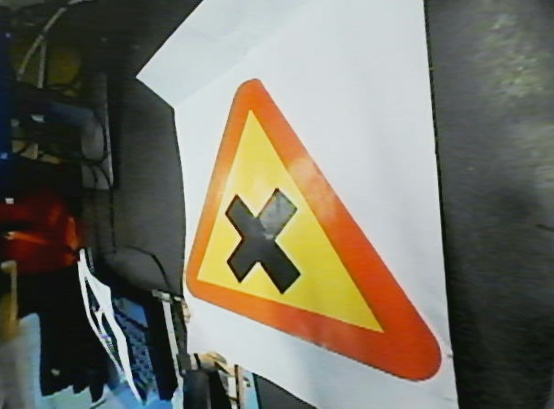junction: (176, 77, 449, 389)
